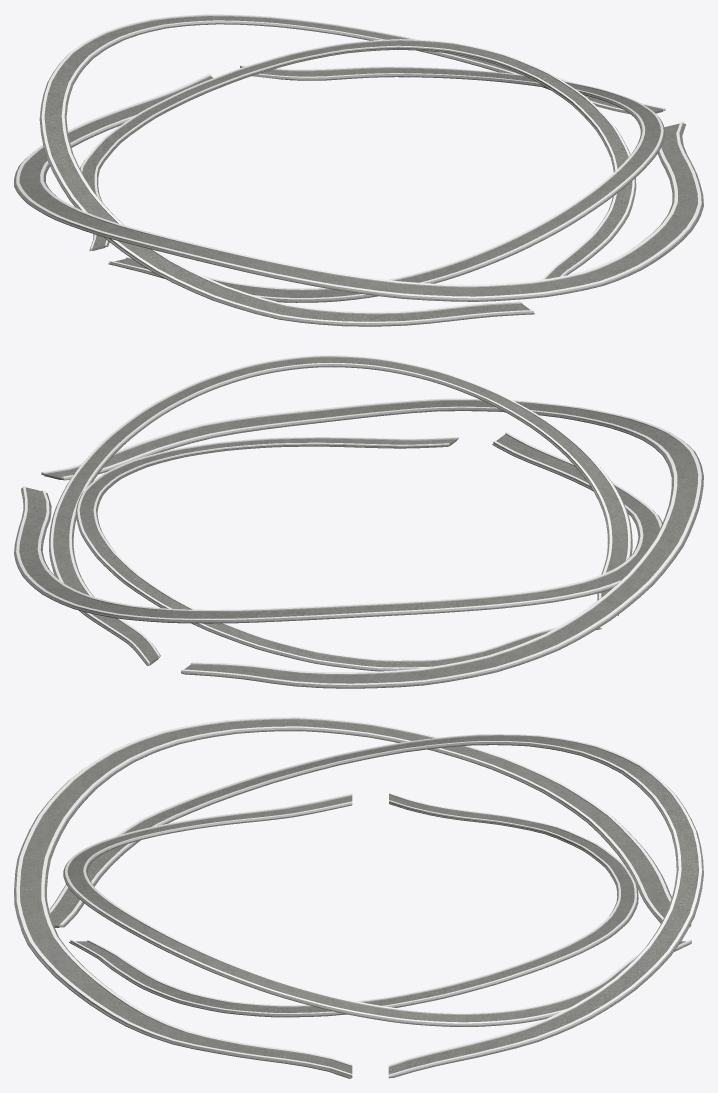
Rendered from Round.FBX.
3 views of the same model, one above another, from view 1: azimuth 30°, elevation 25°; view 2: azimuth 150°, elevation 25°; view 3: azimuth 270°, elevation 25° (orthographic).
Visible parts, largest first — view 1: Road2, Road4, Road1, Road3; view 2: Road2, Road4, Road1, Road3; view 3: Road2, Road4, Road1, Road3.
Boxes of the visible parts, <box> form: Road2: <box>14,73,703,301</box>; Road4: <box>39,14,665,326</box>; Road1: <box>108,65,665,302</box>; Road3: <box>80,39,636,279</box>; Road2: <box>41,398,703,688</box>; Road4: <box>14,432,662,623</box>; Road1: <box>49,355,632,665</box>; Road3: <box>75,437,601,671</box>; Road2: <box>14,717,691,1078</box>; Road4: <box>49,734,703,1078</box>; Road1: <box>63,793,691,1026</box>; Road3: <box>69,793,638,1017</box>.
Size of the model in its own units: 9281 by 1177 by 8868.
